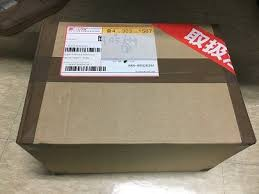undamaged: (14, 19, 258, 173)
